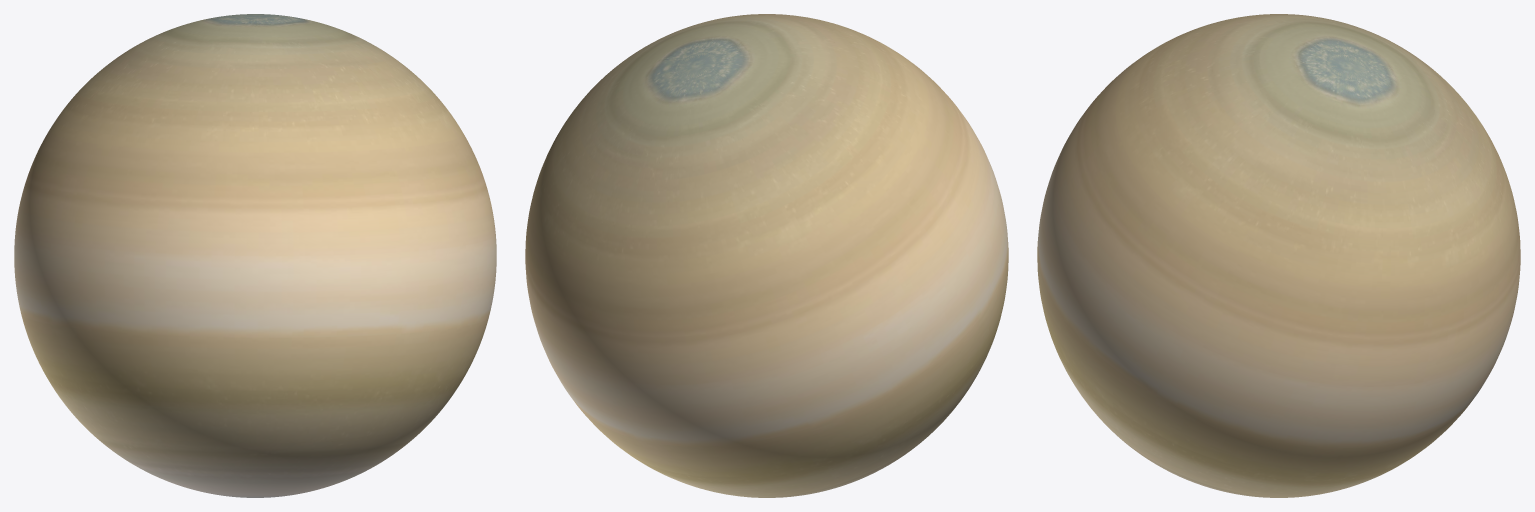
The model's file is Saturn.glb.
3 renders of one model, left to right at view 1: azimuth 30°, elevation 25°; view 2: azimuth 150°, elevation 25°; view 3: azimuth 270°, elevation 25°, orthographic.
Parts seen in each view (by area): view 1: Saturn; view 2: Saturn; view 3: Saturn.
Part boxes in pixels (box(x1,y1,x2,y2)): Saturn: box(14, 14, 496, 497); Saturn: box(525, 14, 1008, 497); Saturn: box(1037, 14, 1520, 497).
Bounding box in the file's own units: 1.99 × 2 × 1.99.
1 material, 1 textured.
